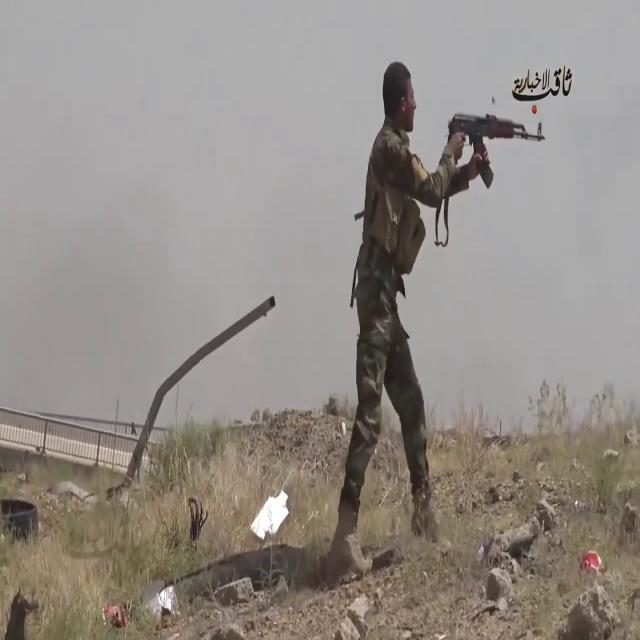long weapon: (437, 98, 563, 214)
